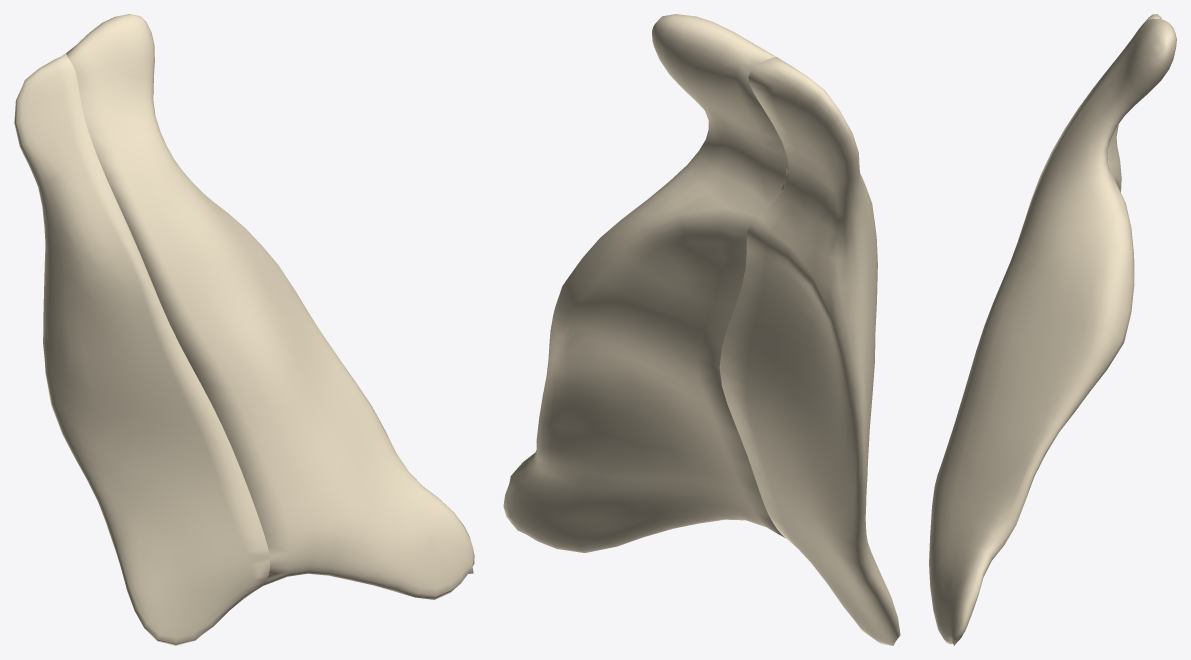
File: thymus.glb
3 views of the same model, side by side, from view 1: azimuth 30°, elevation 25°; view 2: azimuth 150°, elevation 25°; view 3: azimuth 270°, elevation 25° (orthographic). The views are drawn at different scales.
Parts seen in each view (by area): view 1: VH_F_thymus_lobe_L; view 2: VH_F_thymus_lobe_L; view 3: VH_F_thymus_lobe_L.
Boxes of the visible parts, x1,y1,x2,y2 form: VH_F_thymus_lobe_L: (14, 14, 474, 645); VH_F_thymus_lobe_L: (503, 14, 900, 645); VH_F_thymus_lobe_L: (929, 14, 1176, 645).
Size of the model in its own units: 0.086 by 0.1236 by 0.0538.
